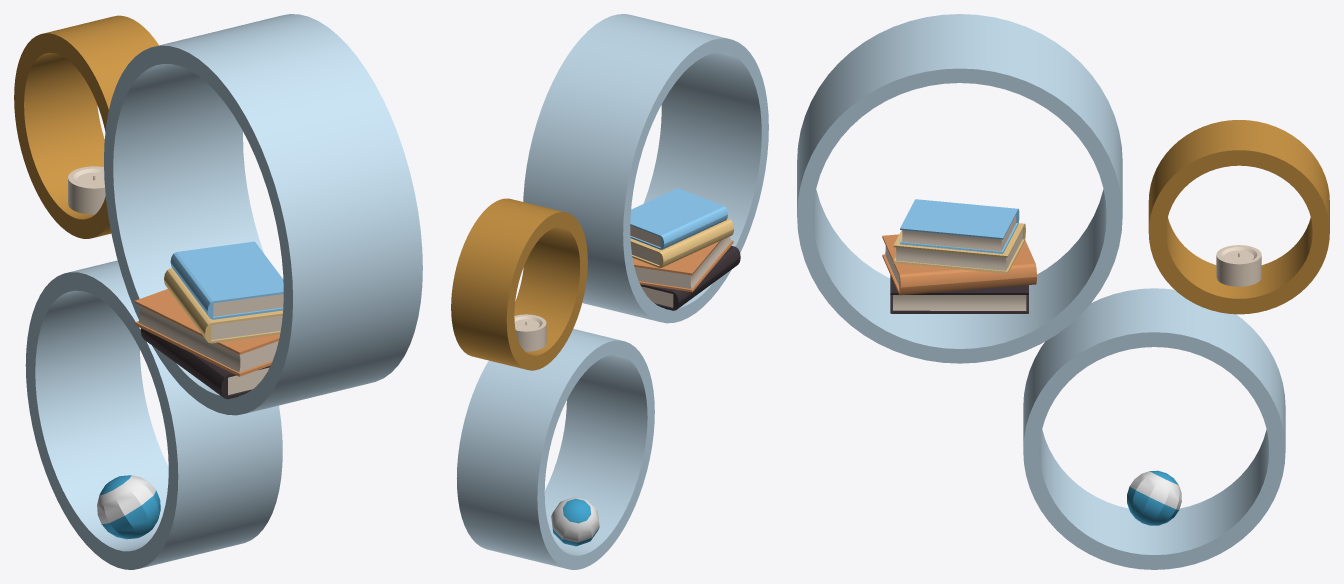
File: Furn1_bookcase_right_color1_joined.fbx
3 views of the same model, side by side, from view 1: azimuth 30°, elevation 25°; view 2: azimuth 150°, elevation 25°; view 3: azimuth 270°, elevation 25° (orthographic). The views are drawn at different scales.
Parts seen in each view (by area): view 1: Куб.030; view 2: Куб.030; view 3: Куб.030.
Part boxes in pixels (x1,y1,x2,y2): Куб.030: (14,14,422,569); Куб.030: (451,14,768,569); Куб.030: (797,14,1329,569).
Size of the model in its own units: 76.83 by 270 by 258.
